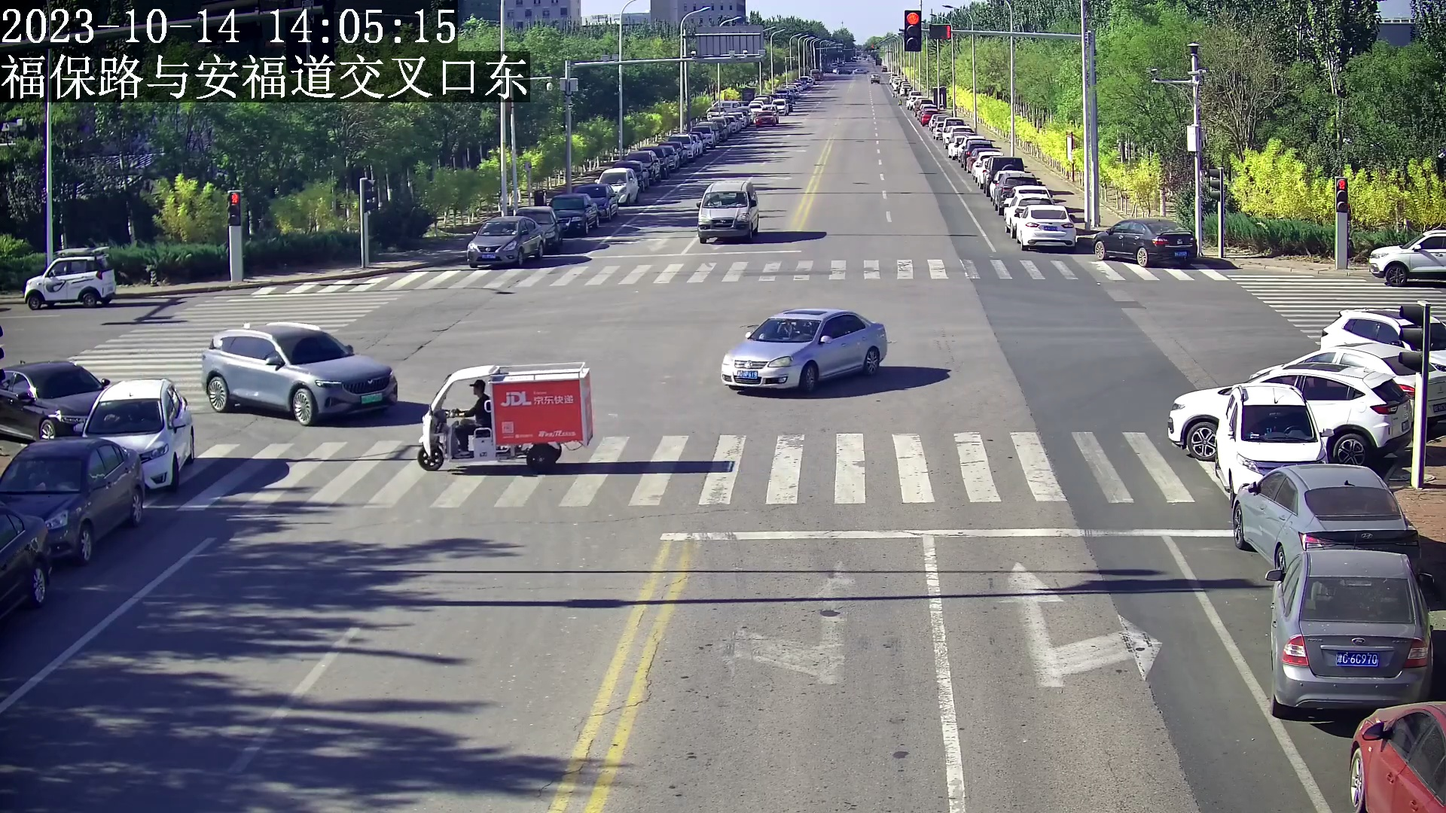person: (455, 375, 487, 455)
vehicle: (1266, 544, 1429, 712), (1160, 361, 1408, 463), (195, 318, 398, 423), (1230, 461, 1418, 571), (3, 432, 148, 565), (415, 362, 592, 465), (721, 303, 887, 388), (84, 377, 194, 485), (1217, 382, 1321, 495), (1349, 699, 1445, 811), (2, 357, 107, 443), (25, 245, 118, 312), (1089, 214, 1197, 269), (1367, 224, 1444, 284), (468, 211, 545, 269), (697, 179, 763, 245), (1017, 205, 1072, 253)
